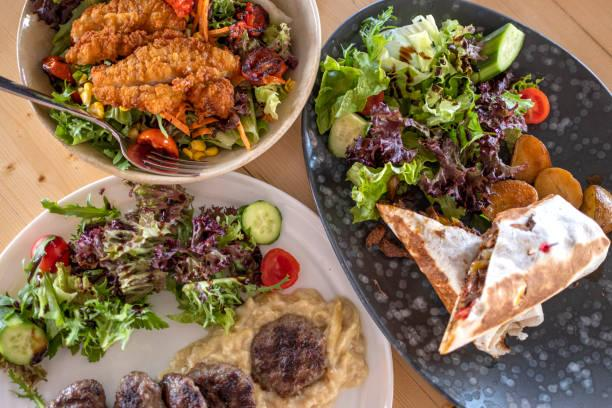Braised Crucian Carp: (299, 0, 605, 404), (0, 169, 381, 403), (18, 2, 317, 186)
